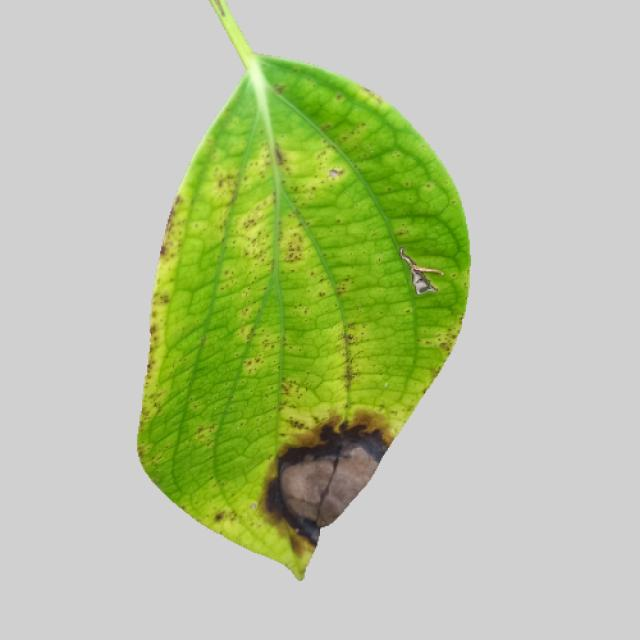leaf-blight: (128, 12, 461, 594)
